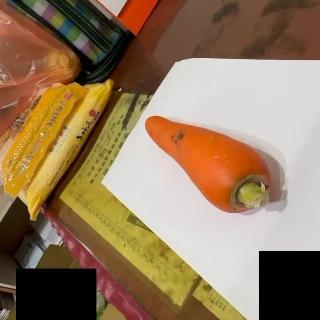carrot: (144, 116, 272, 215)
